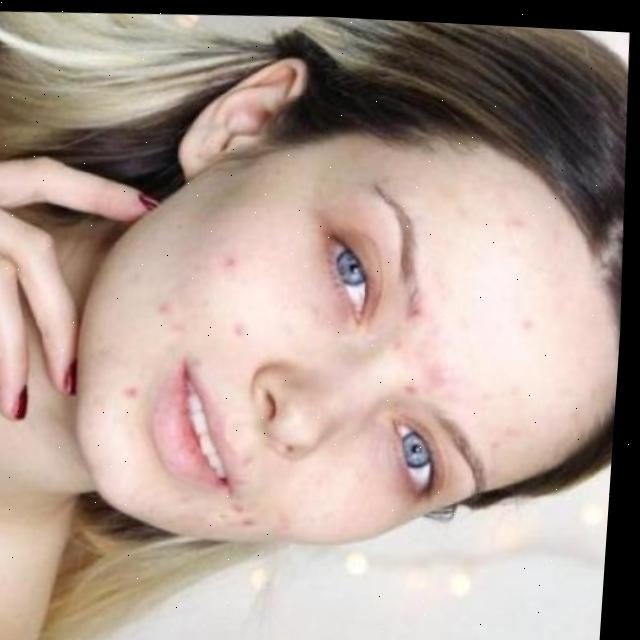Acne: (151, 263, 281, 387), (173, 441, 290, 545), (403, 337, 462, 412)
